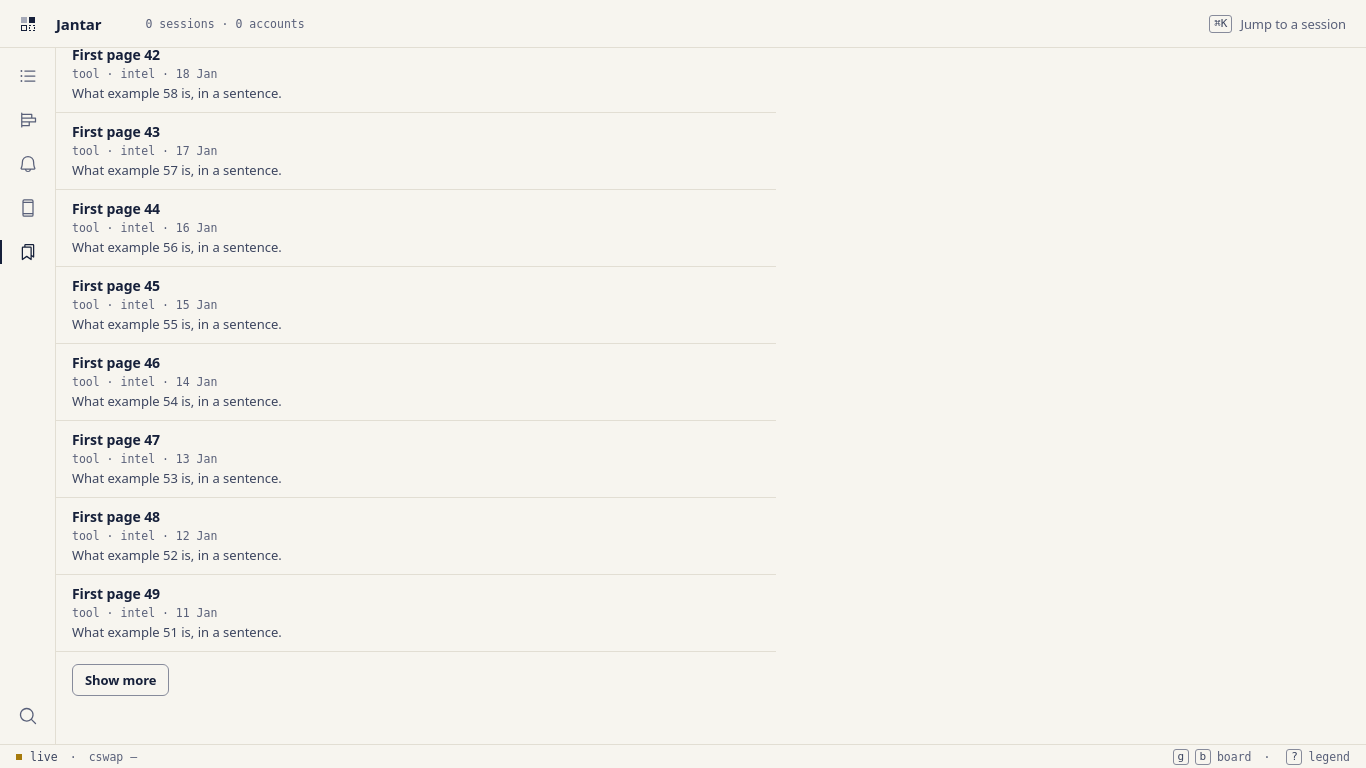
Test: the shelf › Show more fetches the next 50 after the cursor and appends them
(page scrolled)
Click the button "Show more": (121, 680) [72,664,169,696]
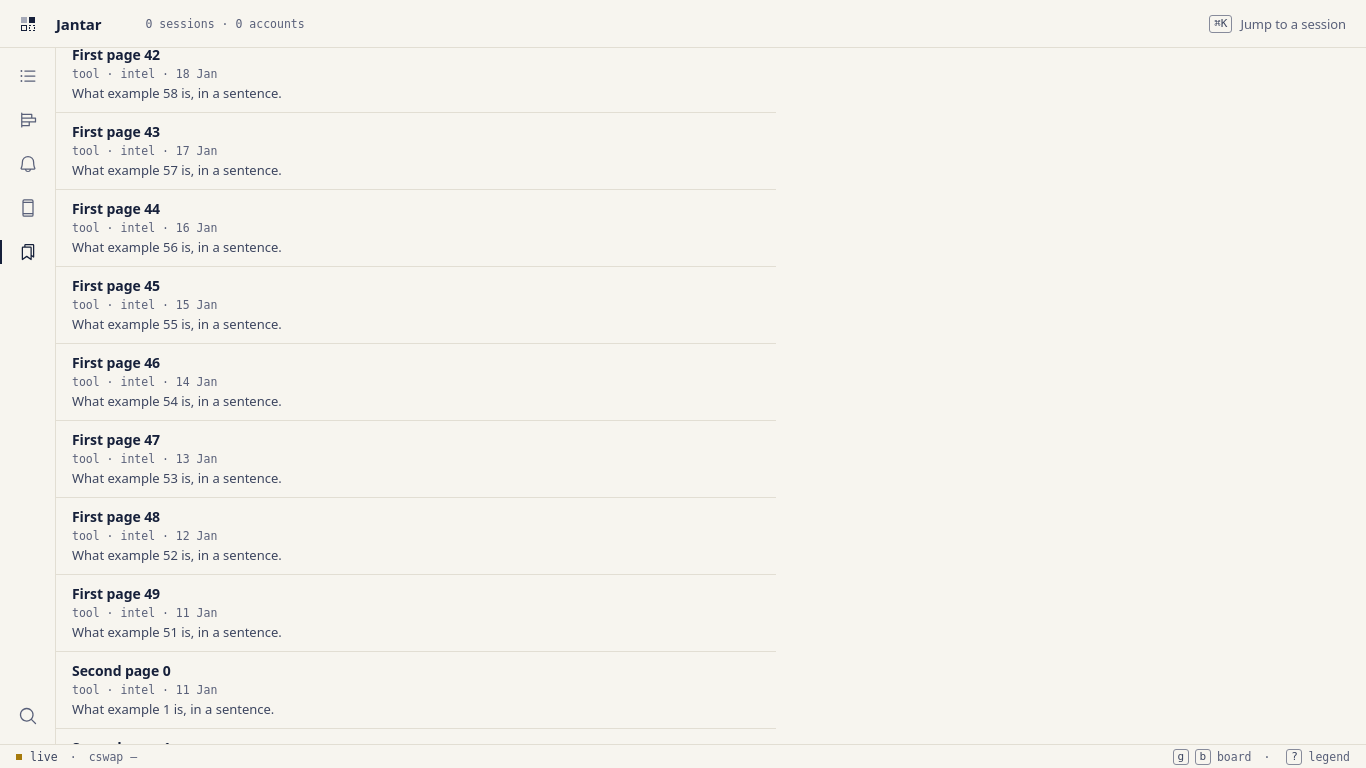
expect the button "Show more" is gone: met
